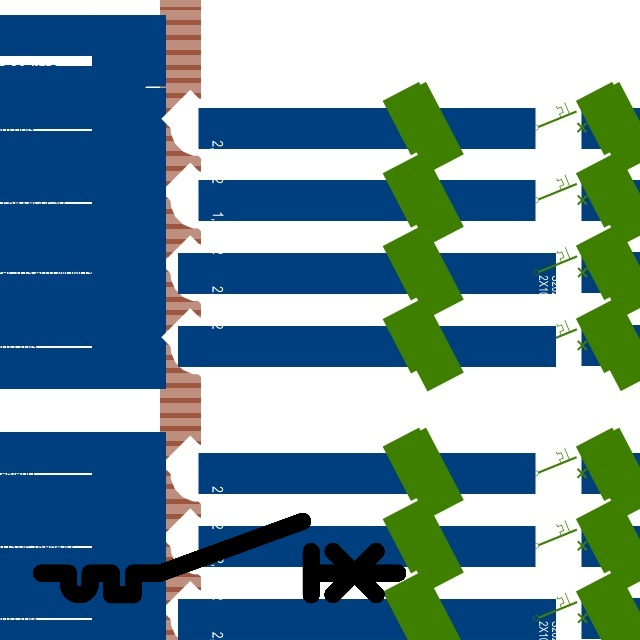interruptor_termomagnetico: (32, 512, 407, 604)
